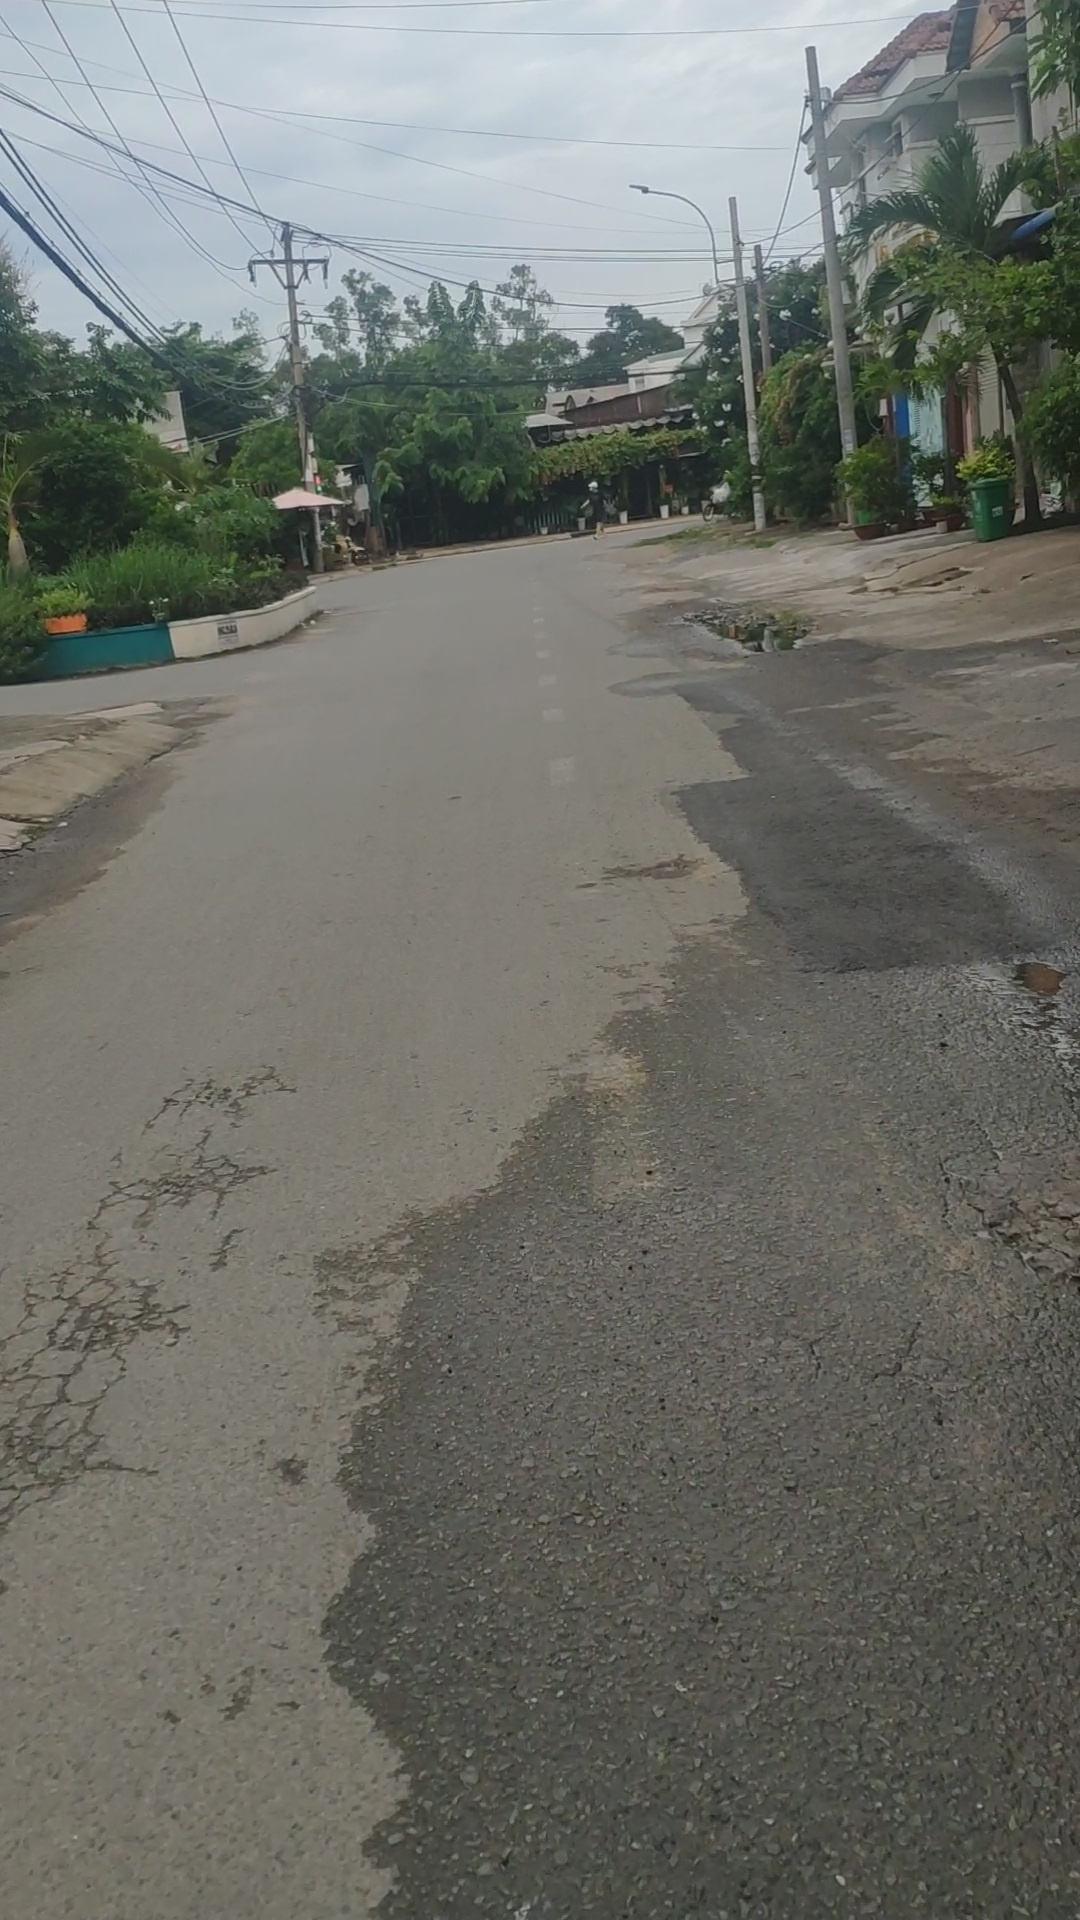hole: (669, 601, 823, 659), (1004, 953, 1080, 1007)
